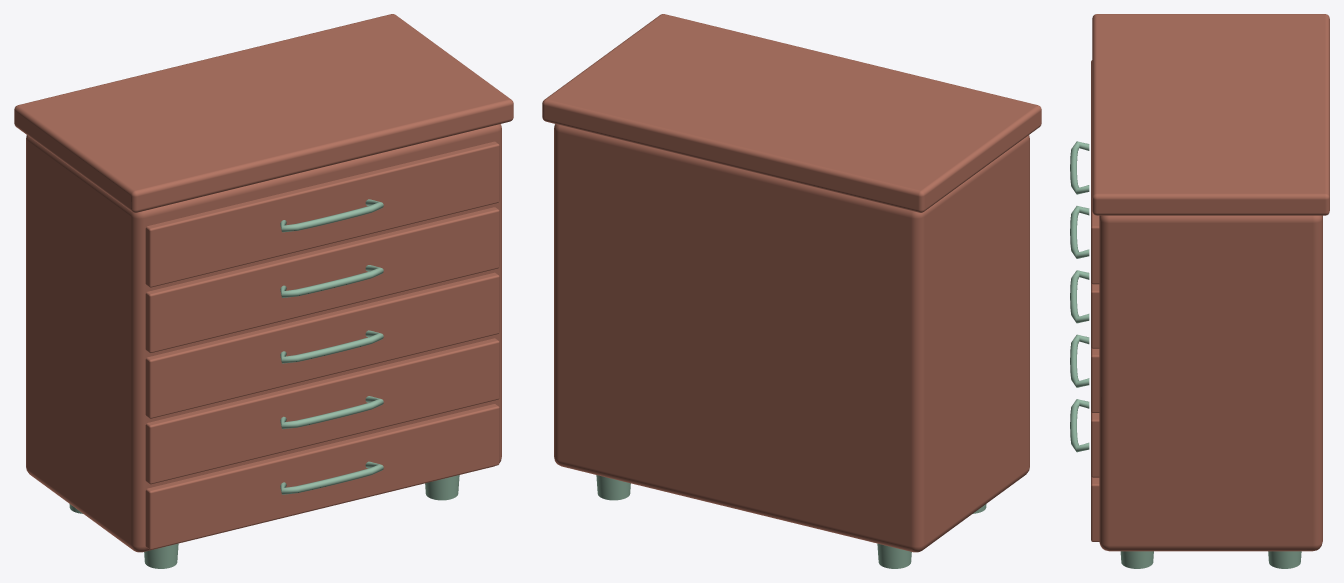
File: enchanted-harp-garden-and-music-sanctuary-score-cabine-81f7b58a__30425.glb
3 renders of one model, left to right at view 1: azimuth 30°, elevation 25°; view 2: azimuth 150°, elevation 25°; view 3: azimuth 270°, elevation 25°, orthographic.
Visible parts, largest first — view 1: score-cabinet; view 2: score-cabinet; view 3: score-cabinet.
Boxes of the visible parts, bbox=[...] form: score-cabinet: bbox=[14, 14, 513, 568]; score-cabinet: bbox=[542, 14, 1041, 568]; score-cabinet: bbox=[1070, 14, 1329, 568].
Size of the model in its own units: 1.09 by 1.08 by 0.6504.
